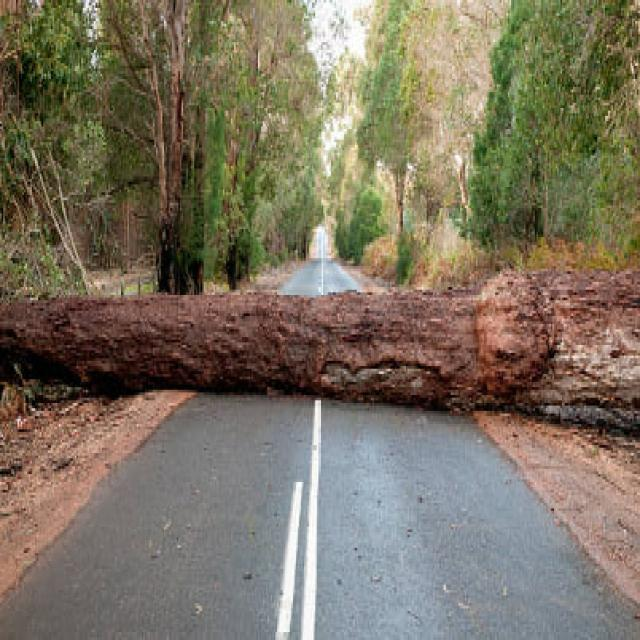fallen_tree: (0, 253, 640, 434)
